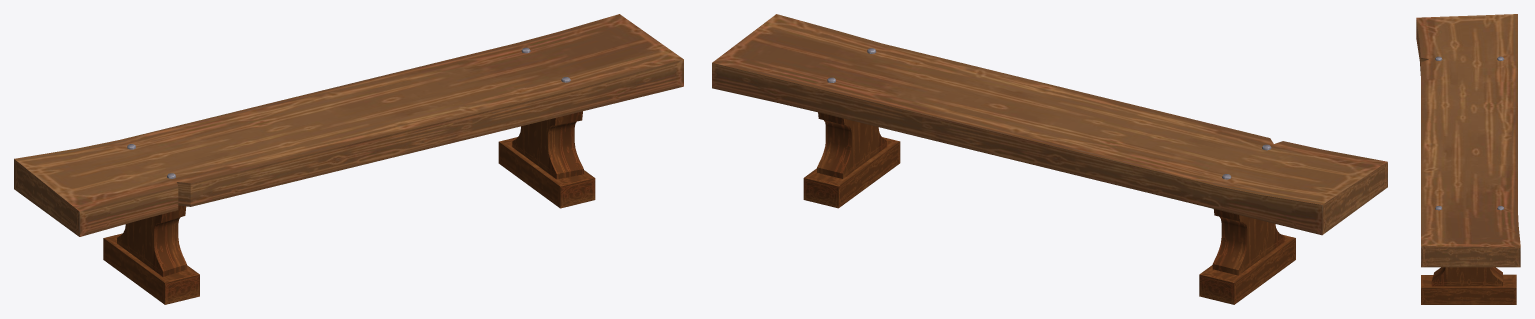
The model's file is Bench.gltf.
3 views of the same model, side by side, from view 1: azimuth 30°, elevation 25°; view 2: azimuth 150°, elevation 25°; view 3: azimuth 270°, elevation 25° (orthographic). The views are drawn at different scales.
Visible parts, largest first — view 1: Bench; view 2: Bench; view 3: Bench.
Part boxes in pixels (left/top/right/bottom): Bench: left=14, top=14, right=683, bottom=304; Bench: left=712, top=14, right=1387, bottom=304; Bench: left=1416, top=14, right=1520, bottom=304.
Size of the model in its own units: 2.78 by 0.5332 by 0.5343.
Materials: 2 (2 with a texture image).
